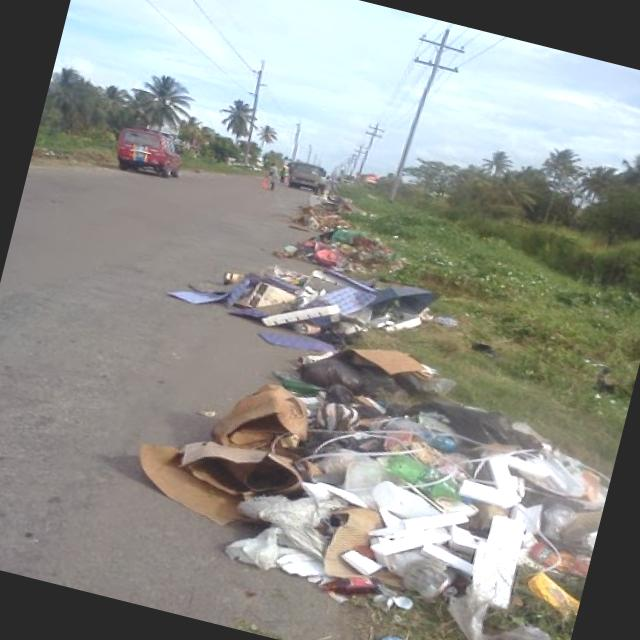garbage: (96, 182, 640, 640)
